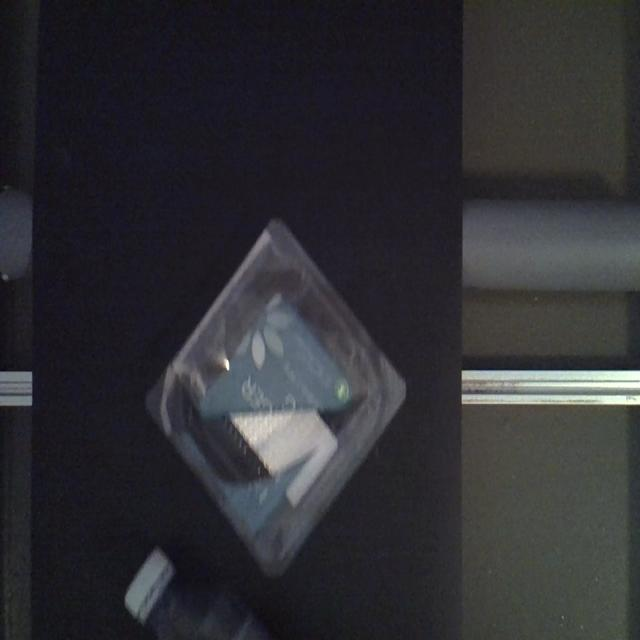bottle-plastic: (120, 546, 301, 640)
mixed-plastics: (143, 212, 409, 579)
